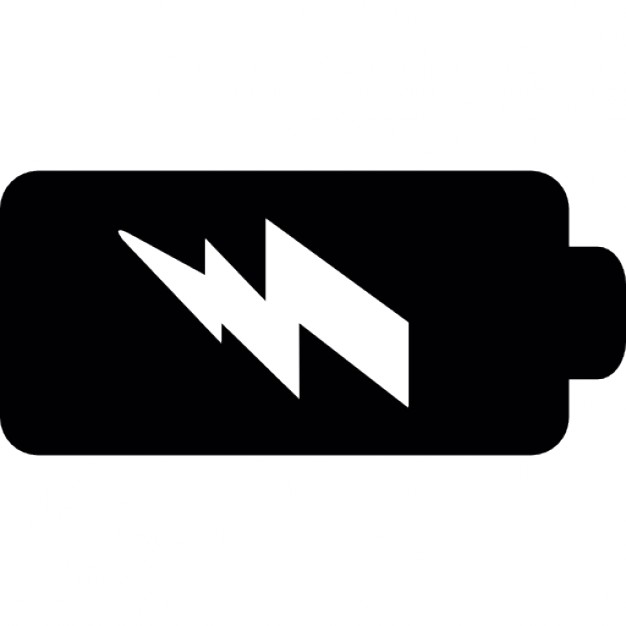charging sign: (1, 153, 620, 469)
